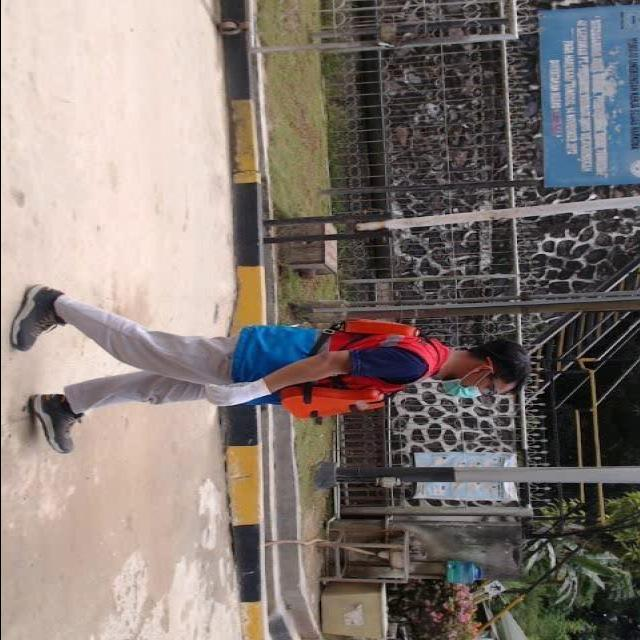jacket: (276, 311, 448, 423)
